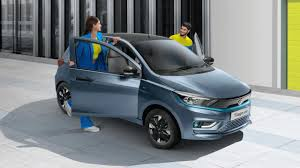Tiago: (54, 29, 254, 150)
